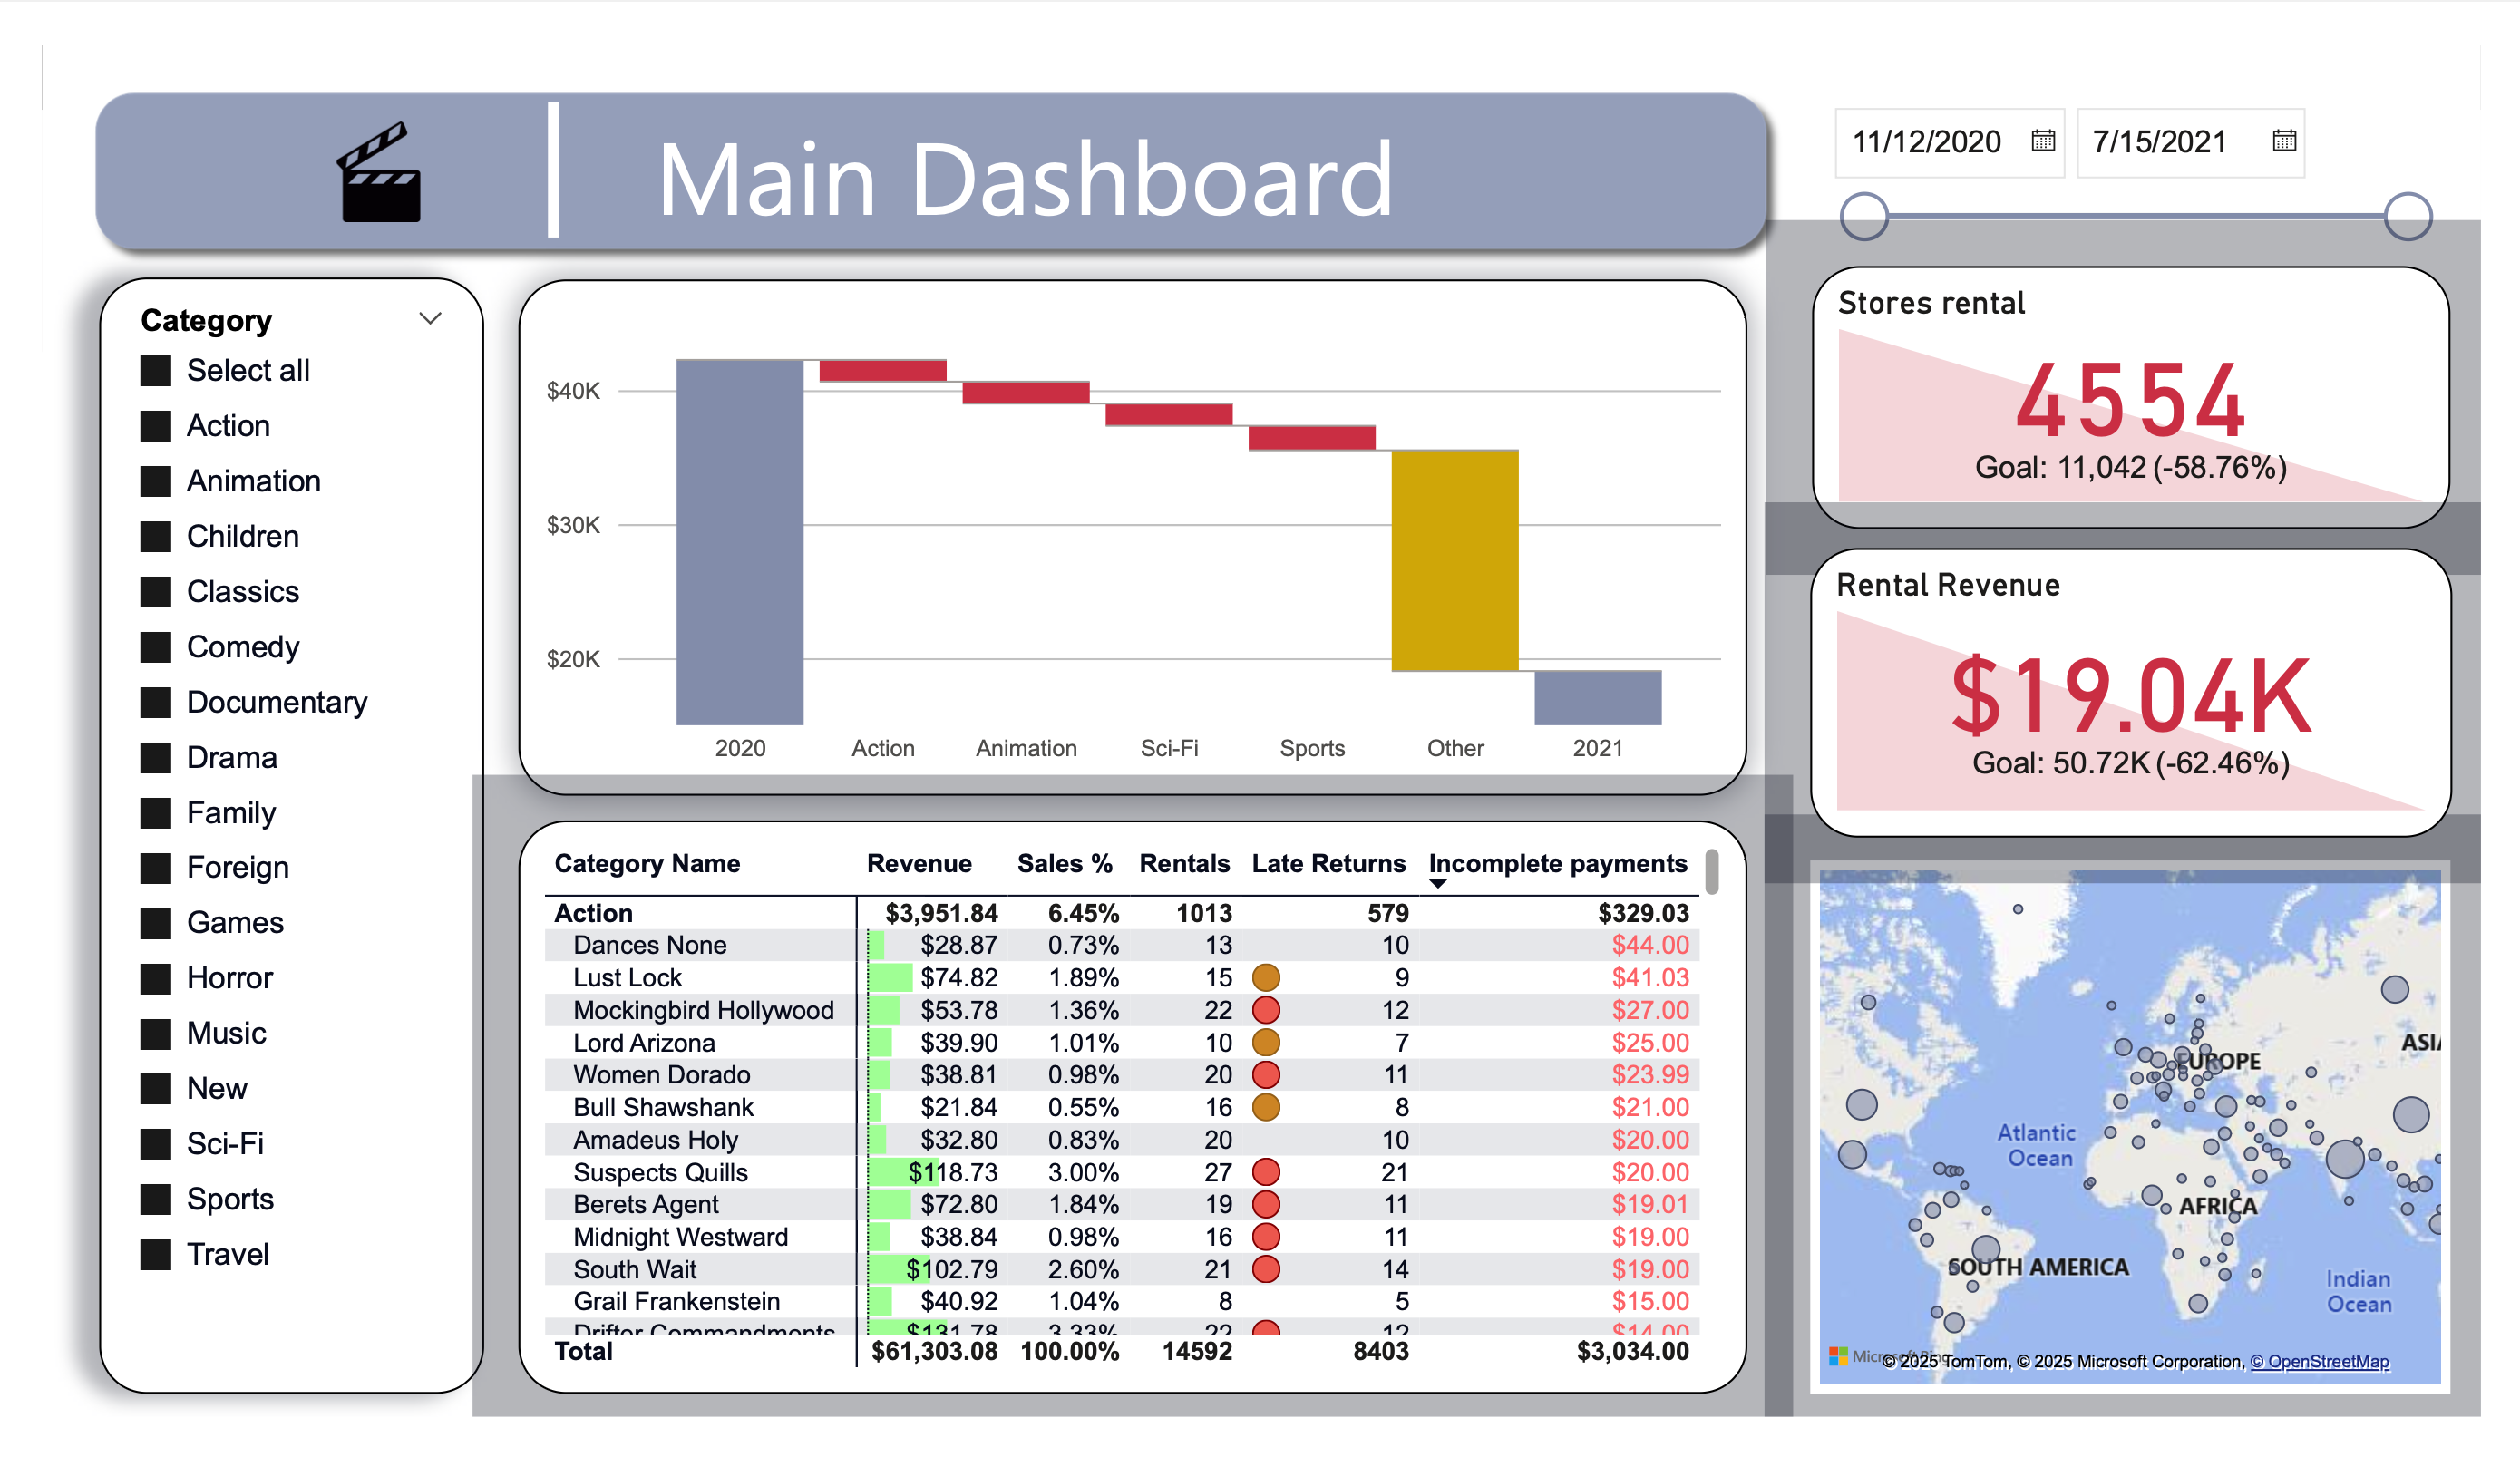

What the dashboard file says about the page in this screenshot:
{"tool":"powerbi","page":{"name":"Main Dashboard","canvas":[1280,720],"ordinal":0},"visuals":[{"type":"shape","title":"Title","box":[18.8,16.2,895,100],"z":0,"group":"g1"},{"type":"group","id":"g1","title":"Dashboard Title","box":[18.8,16.2,895,100],"z":0},{"type":"image","title":"Film Image","box":[145,32.4,62.5,67.5],"z":1000,"group":"g1"},{"type":"map","fields":{"Category":["dim_customer.country"],"Size":["msr.sum_sales"]},"box":[928.2,428.2,335.5,280],"z":1000},{"type":"shape","title":"Seperator","box":[252.6,30,31.2,71.2],"z":2000,"group":"g1"},{"type":"slicer","title":"Date Slicer","fields":{"Values":["dim_date.full_date"]},"box":[928.2,22.7,334.5,84.5],"z":2000},{"type":"slicer","title":"Category Slicer","fields":{"Values":["dim_film.category_name"]},"box":[30.2,121.7,201.5,586],"z":3000},{"type":"waterfallChart","fields":{"Y":["msr.sum_sales"],"Breakdown":["dim_film.category_name"],"Category":["dim_date.year_num"]},"box":[250,122.7,644.5,270.9],"z":4000},{"type":"pivotTable","fields":{"Rows":["dim_film.category_name","dim_film.title"],"Values":["msr.sum_sales","msr.sales_%","msr.total_rentals","msr.total_late_returns","msr.not_collected_fees"]},"box":[250,407,645,301],"z":5000},{"type":"kpi","title":"Stores rental","fields":{"Indicator":["msr.mtd_store_rentals"],"Goal":["msr.Last Month Rentals KPI"],"TrendLine":["dim_date.year_num"]},"box":[929,116,335,138],"z":6000},{"type":"kpi","title":"Rental Revenue","fields":{"Goal":["msr.Revenue Last Year KPI"],"Indicator":["msr.sum_sales"],"TrendLine":["dim_date.year_num"]},"box":[928.2,263.6,336.4,152.7],"z":7000}]}

Visuals, with their boxes on the page's 1280x720 design canvas (x1, y1, x2, y2). These are canvas units, not pixel positions in the 2520x1457 screenshot, which may show the page scaled, cropped or inside an application window:
"Title" shape: locate(19, 16, 914, 116)
"Dashboard Title" group: locate(19, 16, 914, 116)
"Film Image" image: locate(145, 32, 208, 100)
map - dim_customer.country x msr.sum_sales: locate(928, 428, 1264, 708)
"Seperator" shape: locate(253, 30, 284, 101)
"Date Slicer" slicer: locate(928, 23, 1263, 107)
"Category Slicer" slicer: locate(30, 122, 232, 708)
waterfallChart - msr.sum_sales x dim_film.category_name: locate(250, 123, 894, 394)
pivotTable - dim_film.category_name x dim_film.title: locate(250, 407, 895, 708)
"Stores rental" kpi: locate(929, 116, 1264, 254)
"Rental Revenue" kpi: locate(928, 264, 1265, 416)
